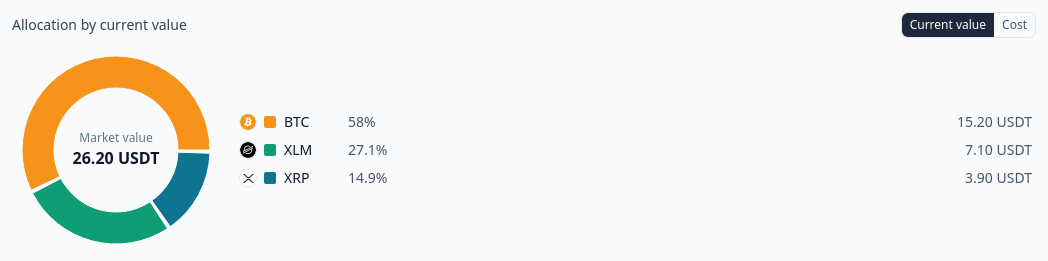
Scenario: AllocationDonut › toggles to cost and labels it
This screenshot has width=1048, height=261.
Click the button "Cost".
click(1015, 25)  # box [994,13,1035,37]
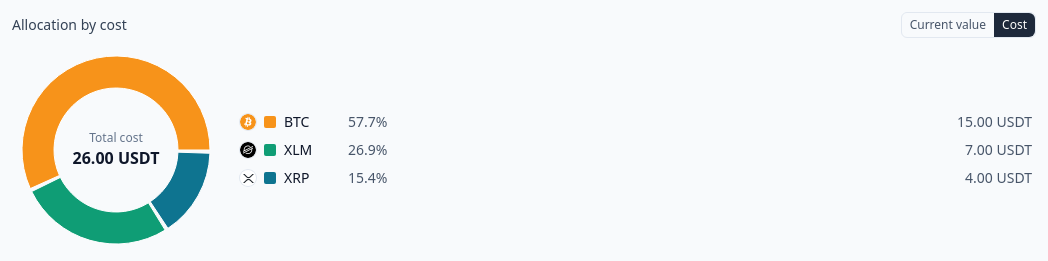
Expected: the button with aria-label "XRP: 15.4%, 4.00 USDT" is shown, [236,166,1036,190]
Expected: the heading "Allocation by cost" is shown, [12,15,127,35]
Expected: the text with test id "donut-total" reads "26.00 USDT", [73,147,160,169]
